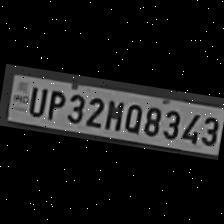2: (82, 92, 106, 128)
3: (62, 89, 86, 125), (197, 112, 220, 147), (159, 106, 181, 140)
4: (178, 109, 202, 145)
8: (140, 102, 162, 138)
M: (102, 96, 125, 132)
P: (43, 86, 66, 122)
Q: (120, 99, 144, 136)
U: (24, 82, 46, 118)
